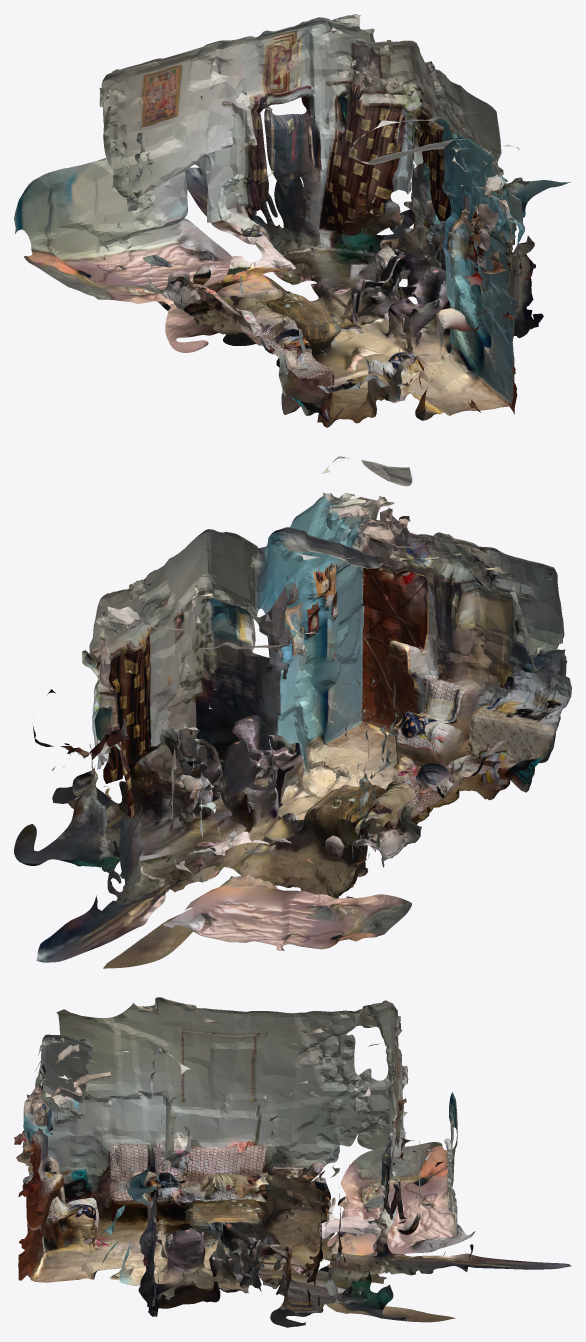
File: room.glb
The picture shows the model from 3 angles, top to bottom: view 1: azimuth 30°, elevation 25°; view 2: azimuth 150°, elevation 25°; view 3: azimuth 270°, elevation 25°; orthographic projection. The views are drawn at different scales.
Size of the model in its own units: 5.77 by 4.23 by 8.14.
3 materials, 3 textured.
